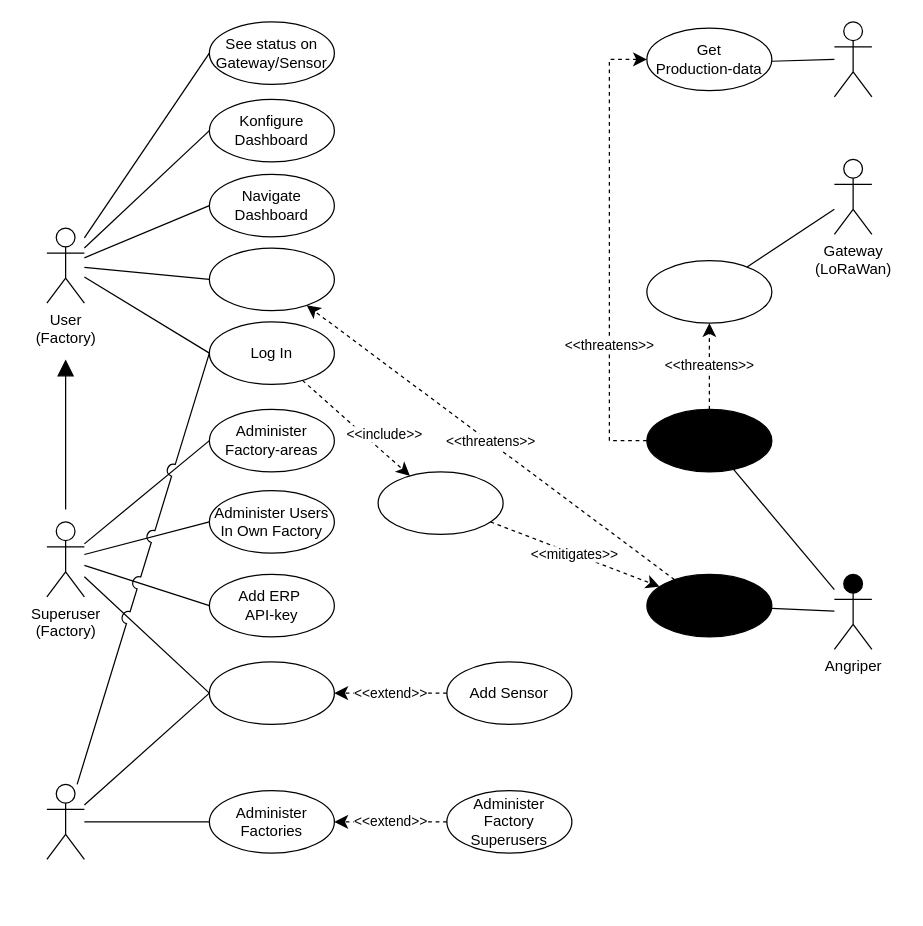
The diagram is 923 pixels wide and 926 high, and some of its shapes have lost their labels. Each missing label, with the centre of its shape:
Add Gateway: the point at 271,692
Administrator (Innoveria): the point at 65,821
Authenticate User: the point at 440,502
ERP-system (Monitor-ERP): the point at 852,59
Get Access To Sensor And Context Data: the point at 709,605
Overload The System: the point at 709,440
Receive Sensor-data: the point at 709,291
See Sensor And Context Data: the point at 271,279
